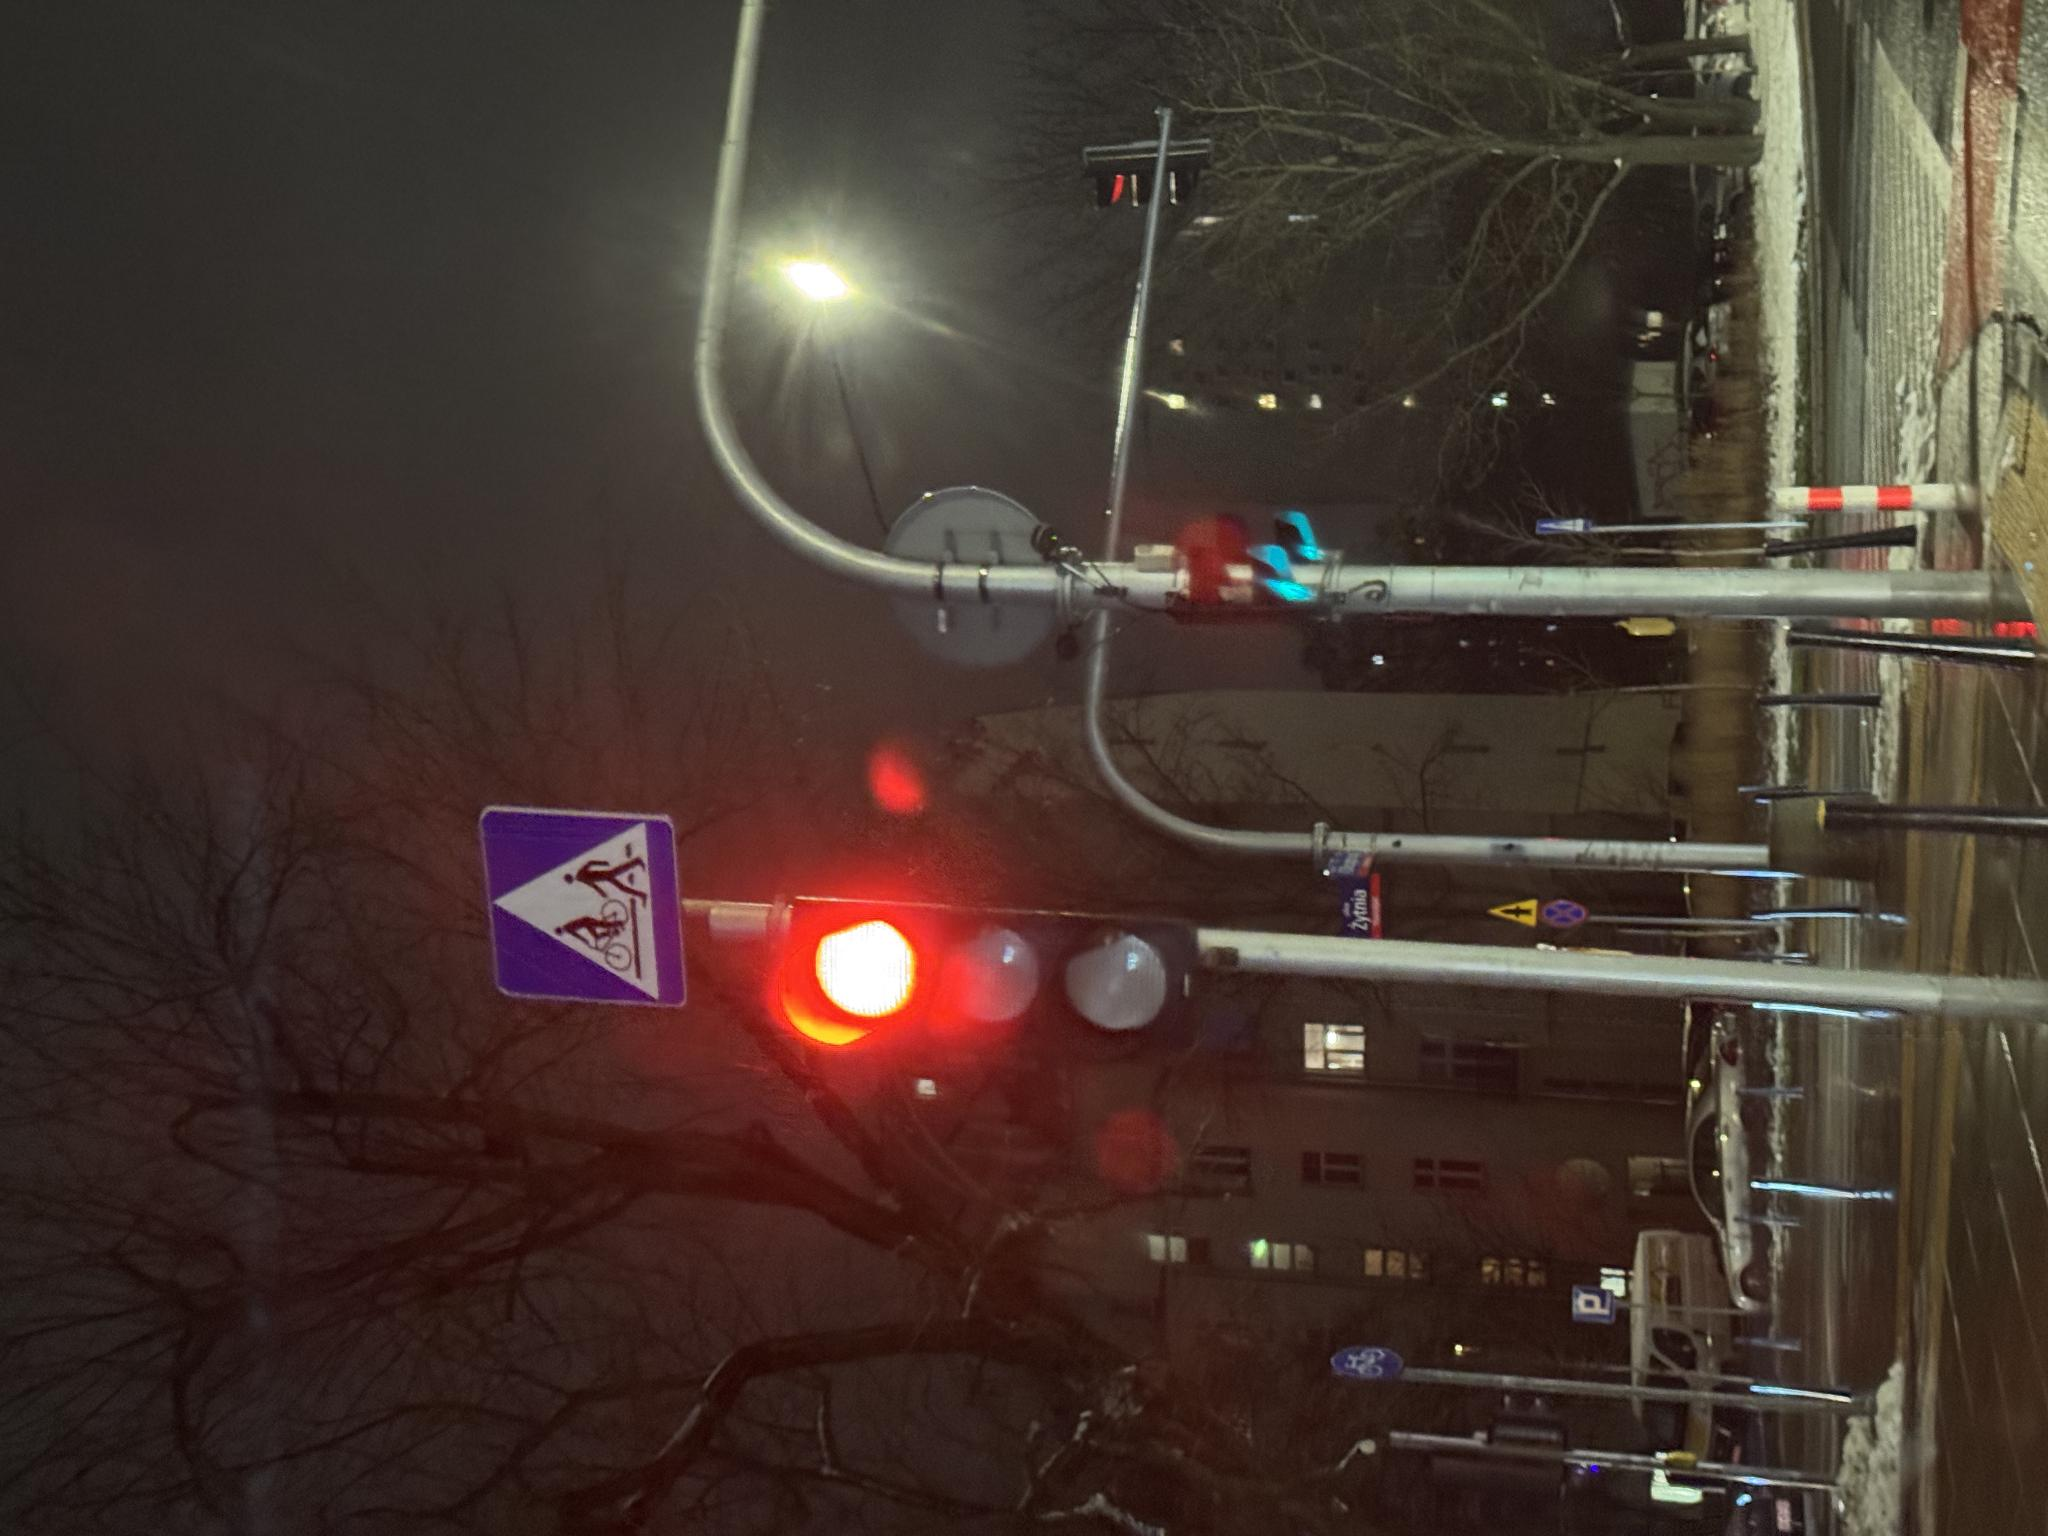information: (526, 478, 732, 678)
mandatory: (152, 1329, 192, 1402)
warning: (610, 1486, 639, 1536)
